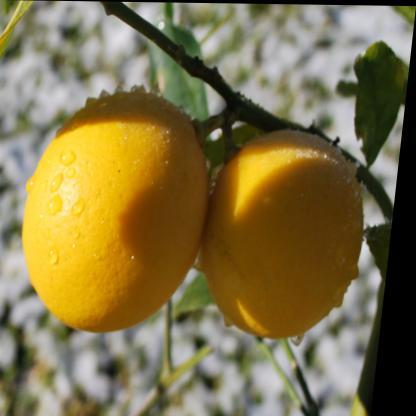lemon: (21, 90, 208, 332), (202, 128, 365, 338)
